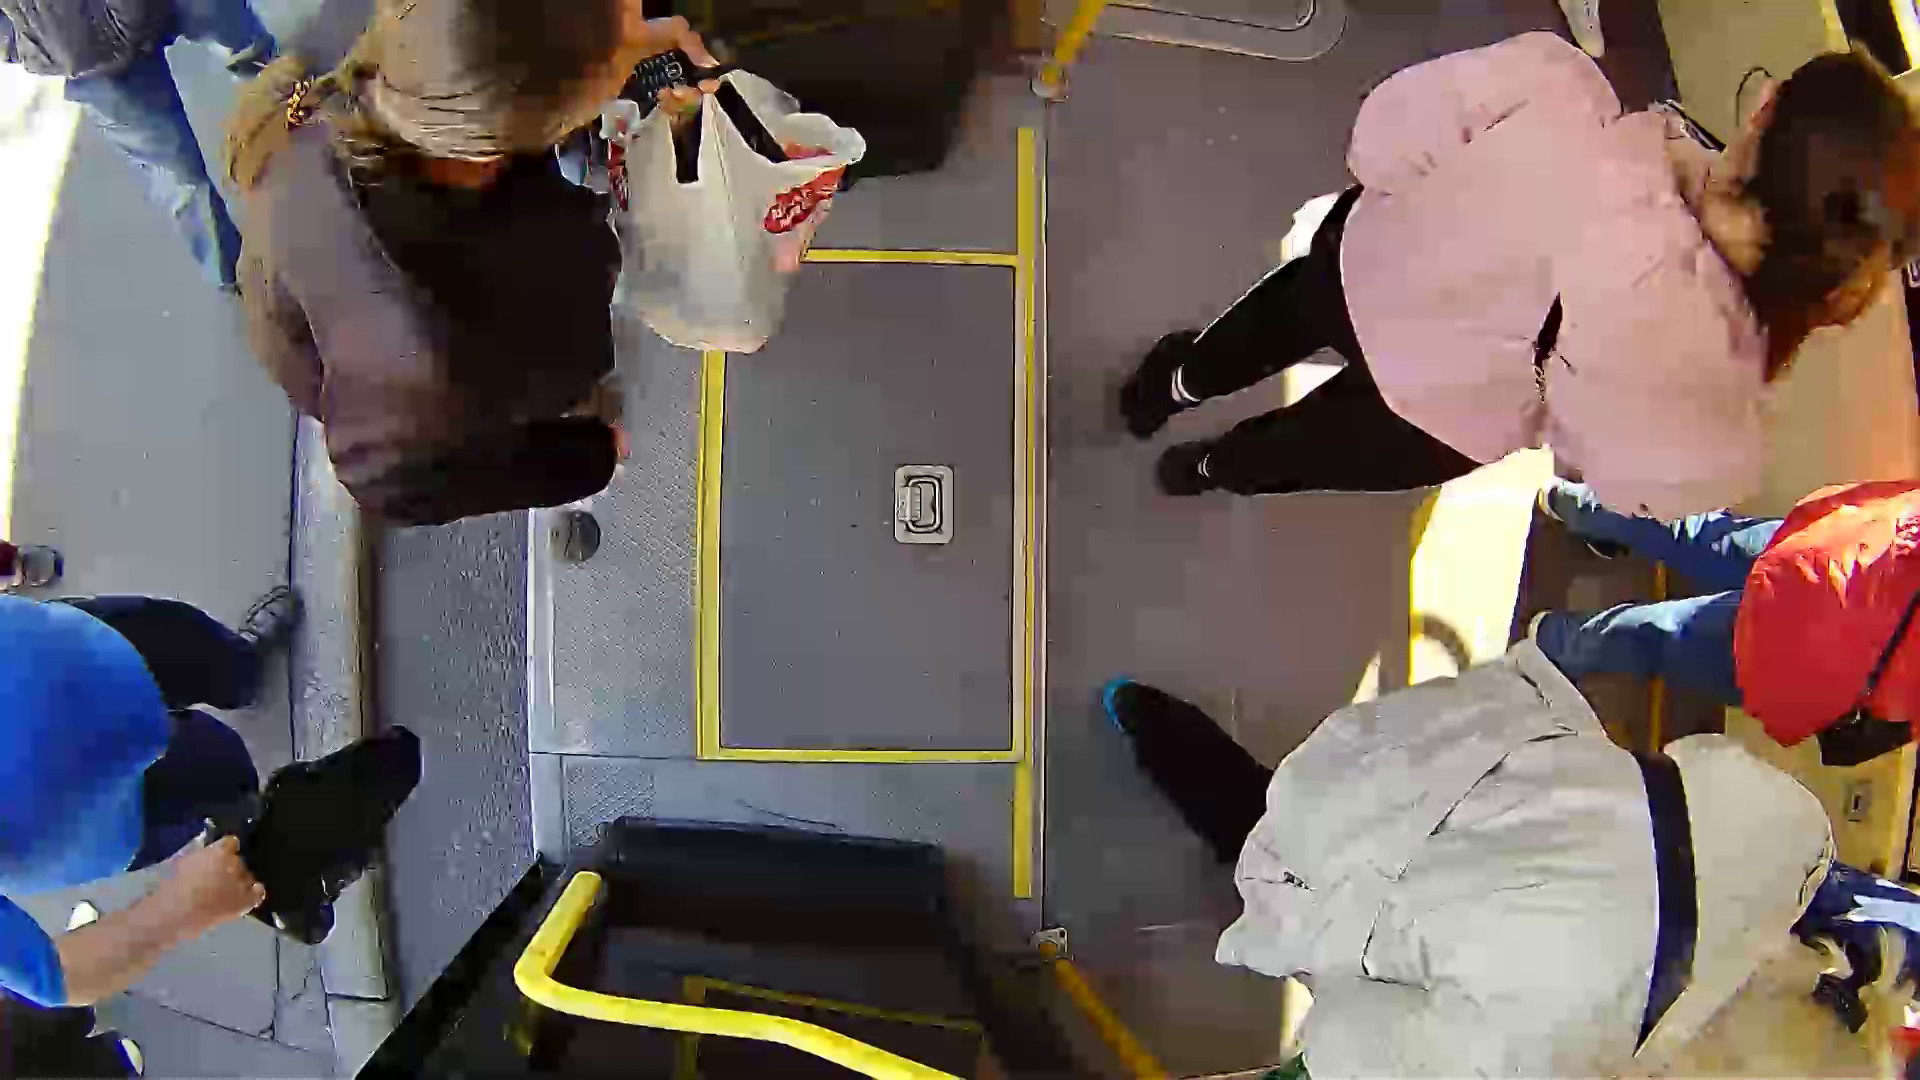person: (202, 1, 1029, 570), (1189, 40, 1888, 586)
